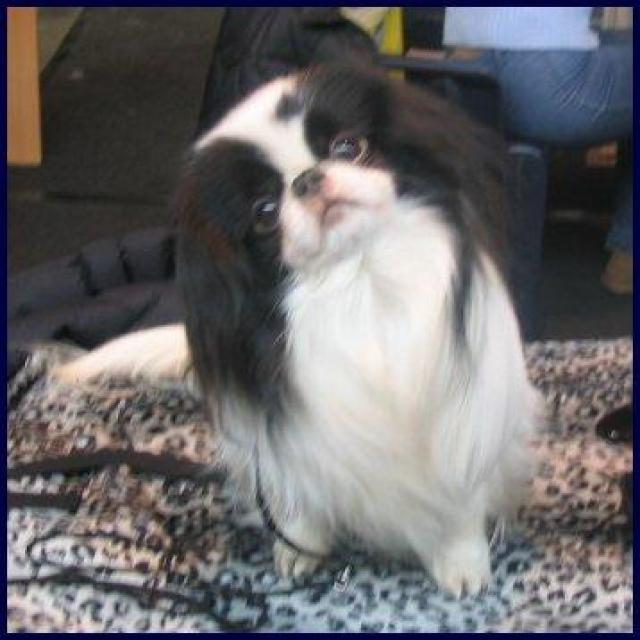husky: (168, 54, 545, 607)
